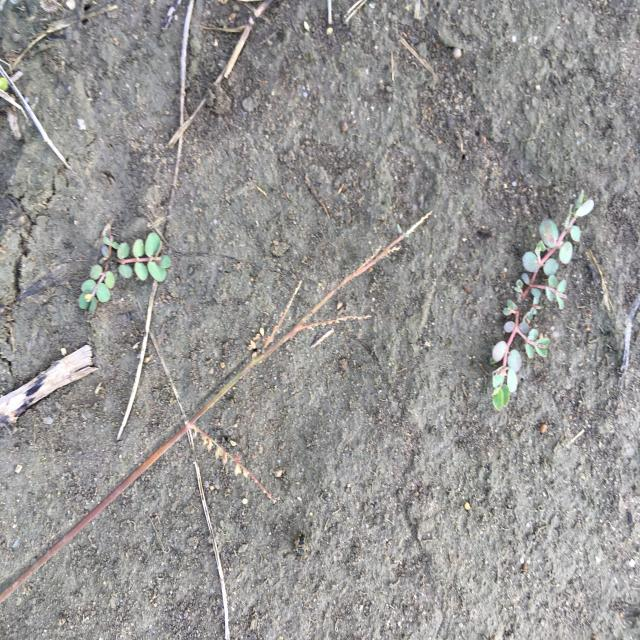SpottedSpurge: (489, 188, 596, 413), (77, 231, 172, 314)
